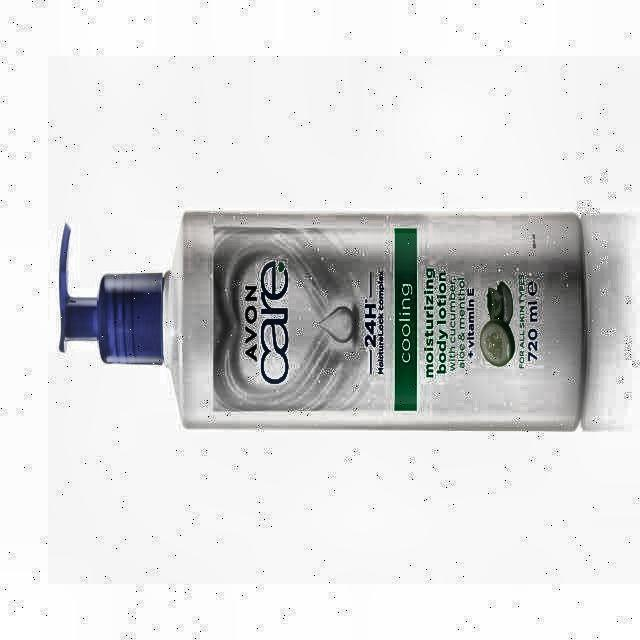plastic: (59, 212, 585, 429)
